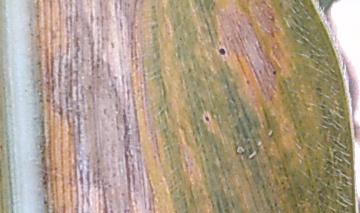tarspot: (217, 45, 226, 55), (203, 113, 210, 123), (87, 82, 93, 92), (245, 78, 252, 85), (42, 198, 49, 205), (271, 67, 277, 75)
